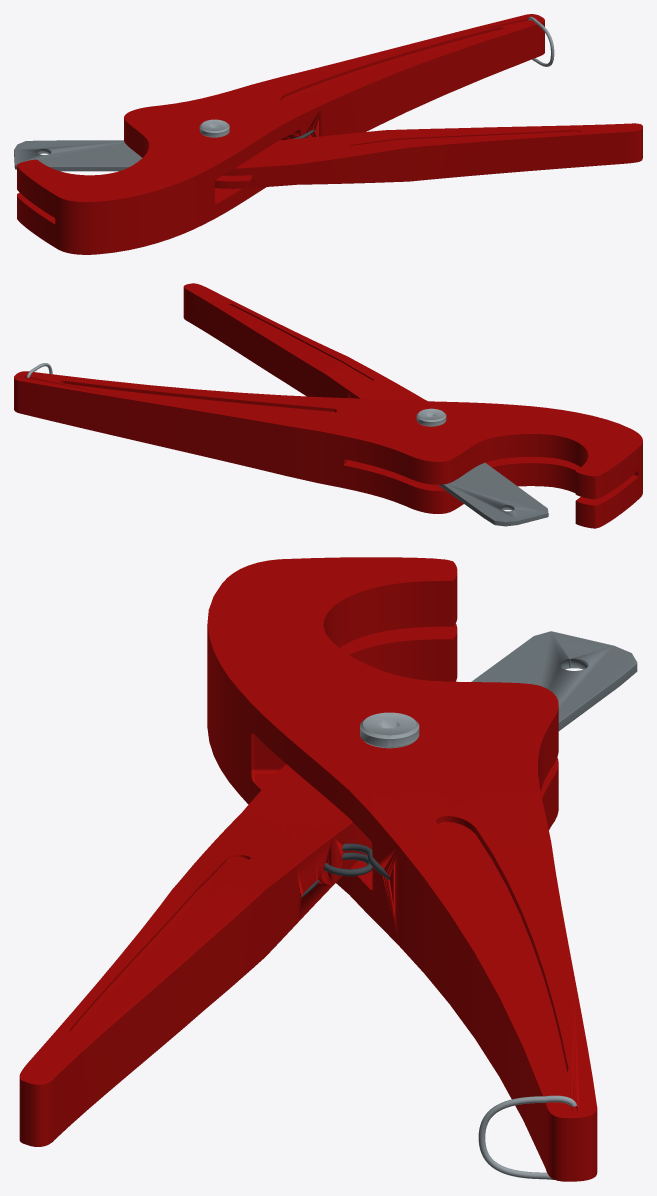
3 renders of one model, top to bottom at view 1: azimuth 30°, elevation 25°; view 2: azimuth 150°, elevation 25°; view 3: azimuth 270°, elevation 25°, orthographic. The views are drawn at different scales.
Parts seen in each view (by area): view 1: part_006_Fixed_handle_and_jaw_contact_shoulders, part_003_Moving_handle_and_blade_fork, part_000_Reversible_cutting_blade, part_001_Pivot_shaft_and_socket_head; view 2: part_006_Fixed_handle_and_jaw_contact_shoulders, part_003_Moving_handle_and_blade_fork, part_000_Reversible_cutting_blade, part_001_Pivot_shaft_and_socket_head; view 3: part_006_Fixed_handle_and_jaw_contact_shoulders, part_003_Moving_handle_and_blade_fork, part_000_Reversible_cutting_blade, part_001_Pivot_shaft_and_socket_head, part_005_Handle_end_retaining_bail, part_004_Handle_opening_torsion_spring.
Part boxes in pixels (x1,y1,x2,y2): part_006_Fixed_handle_and_jaw_contact_shoulders: [17, 14, 544, 254]; part_003_Moving_handle_and_blade_fork: [215, 123, 642, 188]; part_000_Reversible_cutting_blade: [14, 140, 141, 171]; part_001_Pivot_shaft_and_socket_head: [199, 119, 229, 137]; part_006_Fixed_handle_and_jaw_contact_shoulders: [14, 371, 642, 528]; part_003_Moving_handle_and_blade_fork: [183, 283, 427, 401]; part_000_Reversible_cutting_blade: [438, 462, 548, 526]; part_001_Pivot_shaft_and_socket_head: [416, 408, 446, 426]; part_006_Fixed_handle_and_jaw_contact_shoulders: [207, 557, 597, 1181]; part_003_Moving_handle_and_blade_fork: [19, 764, 372, 1146]; part_000_Reversible_cutting_blade: [471, 631, 637, 730]; part_001_Pivot_shaft_and_socket_head: [360, 712, 419, 748]; part_005_Handle_end_retaining_bail: [478, 1095, 576, 1179]; part_004_Handle_opening_torsion_spring: [301, 843, 389, 897].
Bounding box in the file's own units: 0.2217 × 0.0245 × 0.1071.
